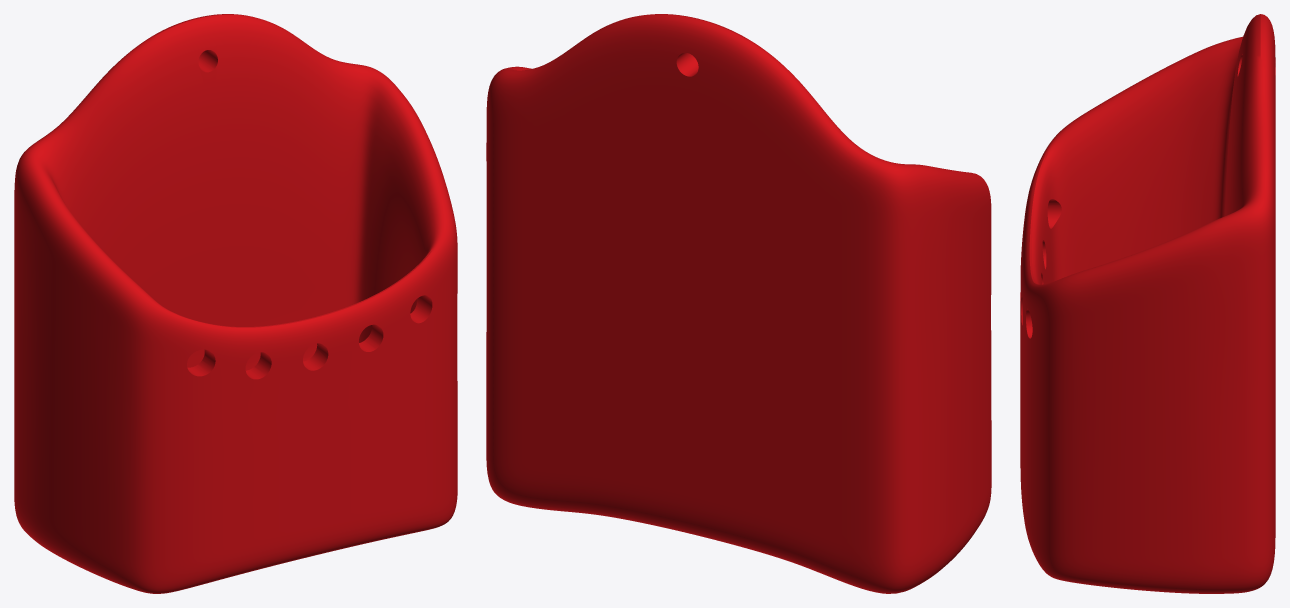
Rendered from holder-fbx.glb.
3 views of the same model, side by side, from view 1: azimuth 30°, elevation 25°; view 2: azimuth 150°, elevation 25°; view 3: azimuth 270°, elevation 25° (orthographic). The views are drawn at different scales.
Visible parts, largest first — view 1: Cube; view 2: Cube; view 3: Cube.
Boxes of the visible parts, left/top/right/bottom form: Cube: left=14, top=14, right=457, bottom=593; Cube: left=486, top=14, right=991, bottom=593; Cube: left=1020, top=14, right=1275, bottom=593.
Size of the model in its own units: 0.08 by 0.0933 by 0.0451.
